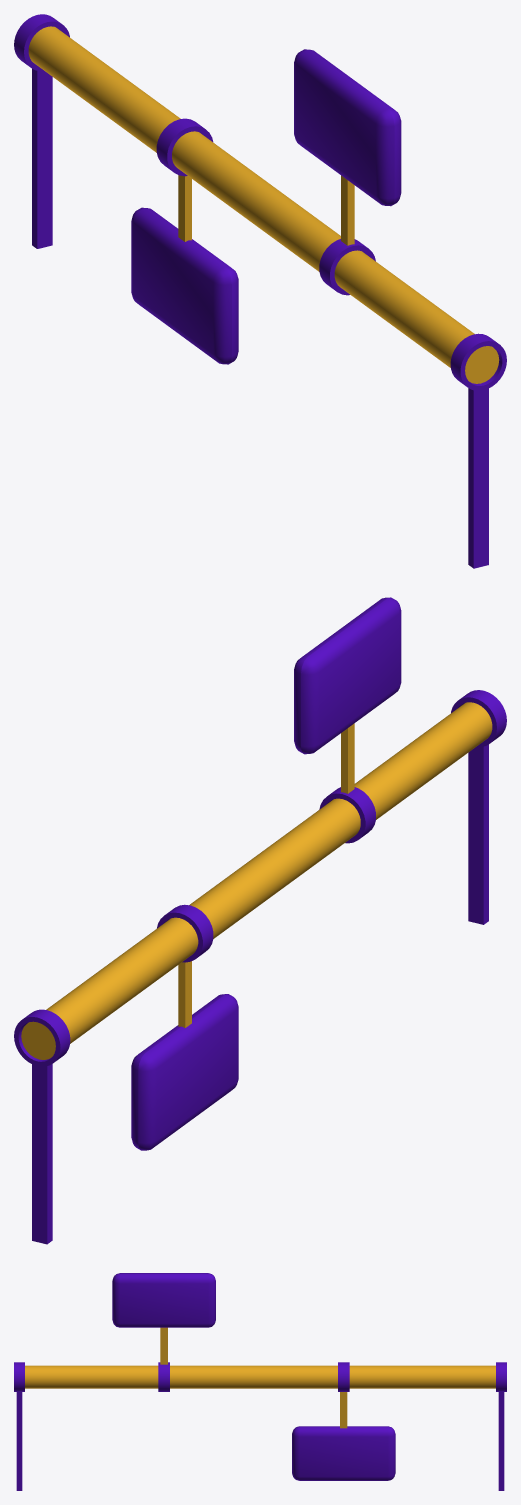
File: Rotating_obstacle1.fbx
3 views of the same model, one above another, from view 1: azimuth 30°, elevation 25°; view 2: azimuth 150°, elevation 25°; view 3: azimuth 270°, elevation 25° (orthographic). The views are drawn at different scales.
Parts seen in each view (by area): view 1: Body, Hand_L, Hand_R, Legs, Shoulder_R, Shoulder_L, Arm_L, Arm_R; view 2: Body, Hand_L, Hand_R, Legs, Shoulder_R, Shoulder_L, Arm_L, Arm_R; view 3: Body, Hand_L, Hand_R, Legs, Shoulder_R, Shoulder_L, Arm_L, Arm_R.
Boxes of the visible parts, x1=… form: Body: x1=28, y1=26, x2=499, y2=383; Hand_L: x1=294, y1=49, x2=401, y2=206; Hand_R: x1=131, y1=207, x2=238, y2=364; Legs: x1=14, y1=14, x2=506, y2=568; Shoulder_R: x1=156, y1=118, x2=213, y2=176; Shoulder_L: x1=319, y1=239, x2=375, y2=295; Arm_L: x1=341, y1=175, x2=354, y2=245; Arm_R: x1=178, y1=175, x2=191, y2=241; Body: x1=21, y1=702, x2=492, y2=1059; Hand_L: x1=294, y1=597, x2=401, y2=754; Hand_R: x1=131, y1=994, x2=238, y2=1150; Legs: x1=14, y1=690, x2=506, y2=1244; Shoulder_R: x1=157, y1=904, x2=213, y2=962; Shoulder_L: x1=319, y1=787, x2=375, y2=843; Arm_L: x1=341, y1=723, x2=354, y2=793; Arm_R: x1=178, y1=961, x2=191, y2=1027; Body: x1=25, y1=1365, x2=495, y2=1388; Hand_L: x1=112, y1=1273, x2=215, y2=1327; Hand_R: x1=292, y1=1426, x2=395, y2=1480; Legs: x1=14, y1=1362, x2=506, y2=1490; Shoulder_R: x1=338, y1=1362, x2=349, y2=1391; Shoulder_L: x1=158, y1=1362, x2=169, y2=1391; Arm_L: x1=160, y1=1327, x2=167, y2=1364; Arm_R: x1=340, y1=1392, x2=347, y2=1428.
Bounding box in the file's own units: 53.83 × 431 × 895.
